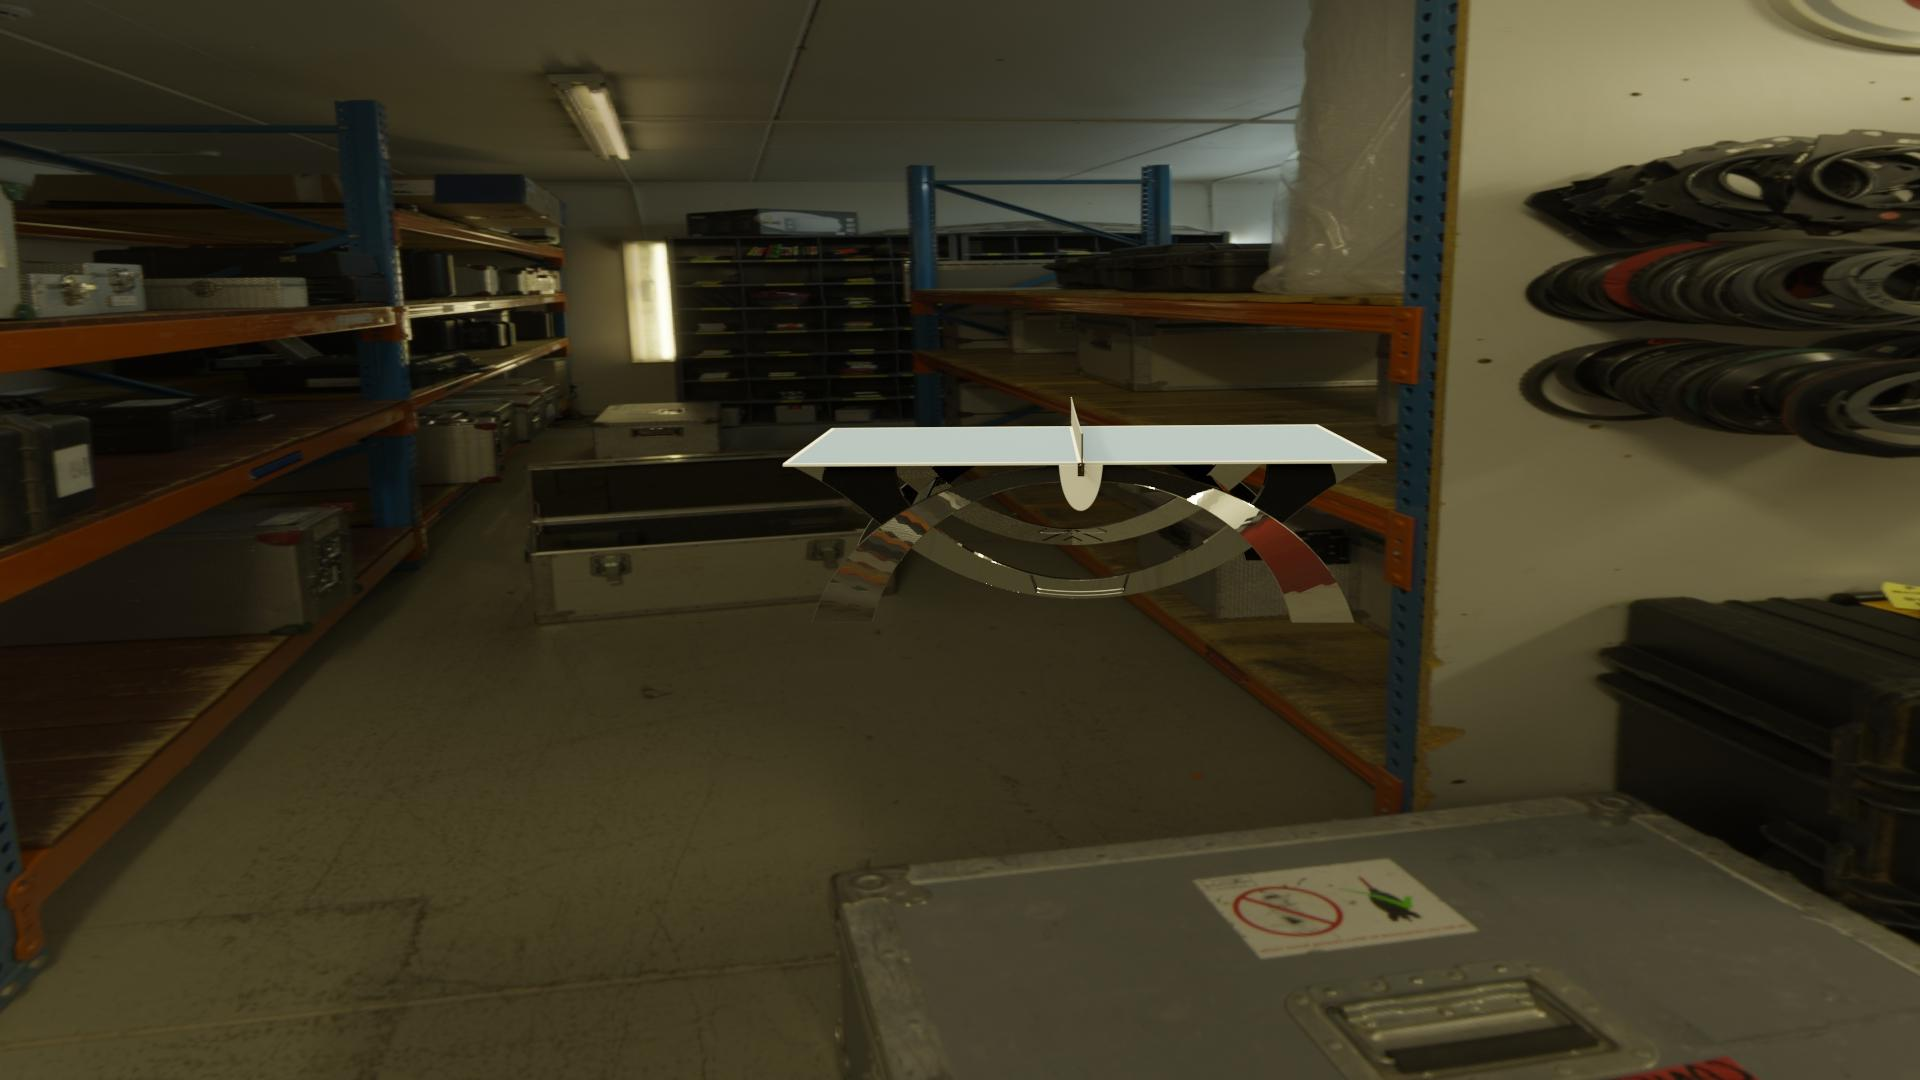table: (789, 425, 1381, 464)
